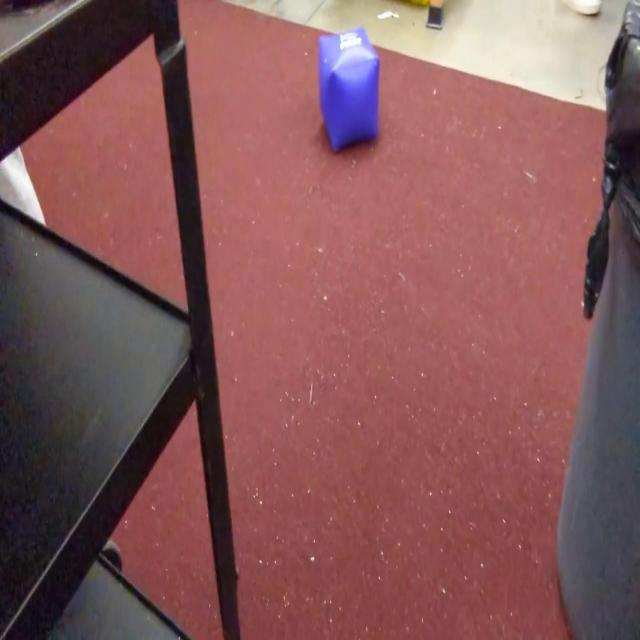frc_cube: (318, 26, 381, 152)
